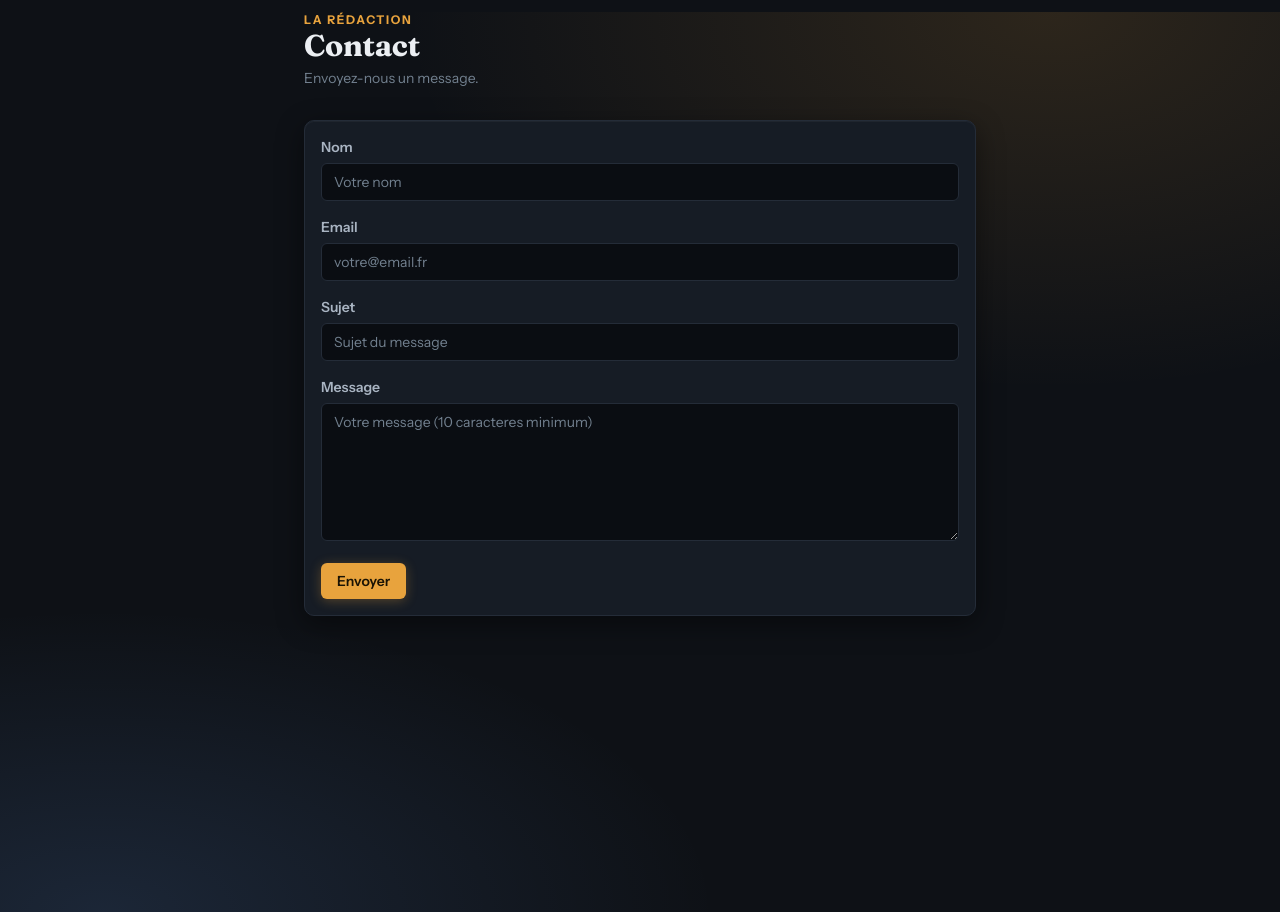
it: ContactPage › succes : affiche le message de succes et reset le formulaire
The image size is (1280, 912).
Type "Jean" into the field labelled "Nom" at {"x": 640, "y": 182}, box left=321, top=163, right=959, bottom=201
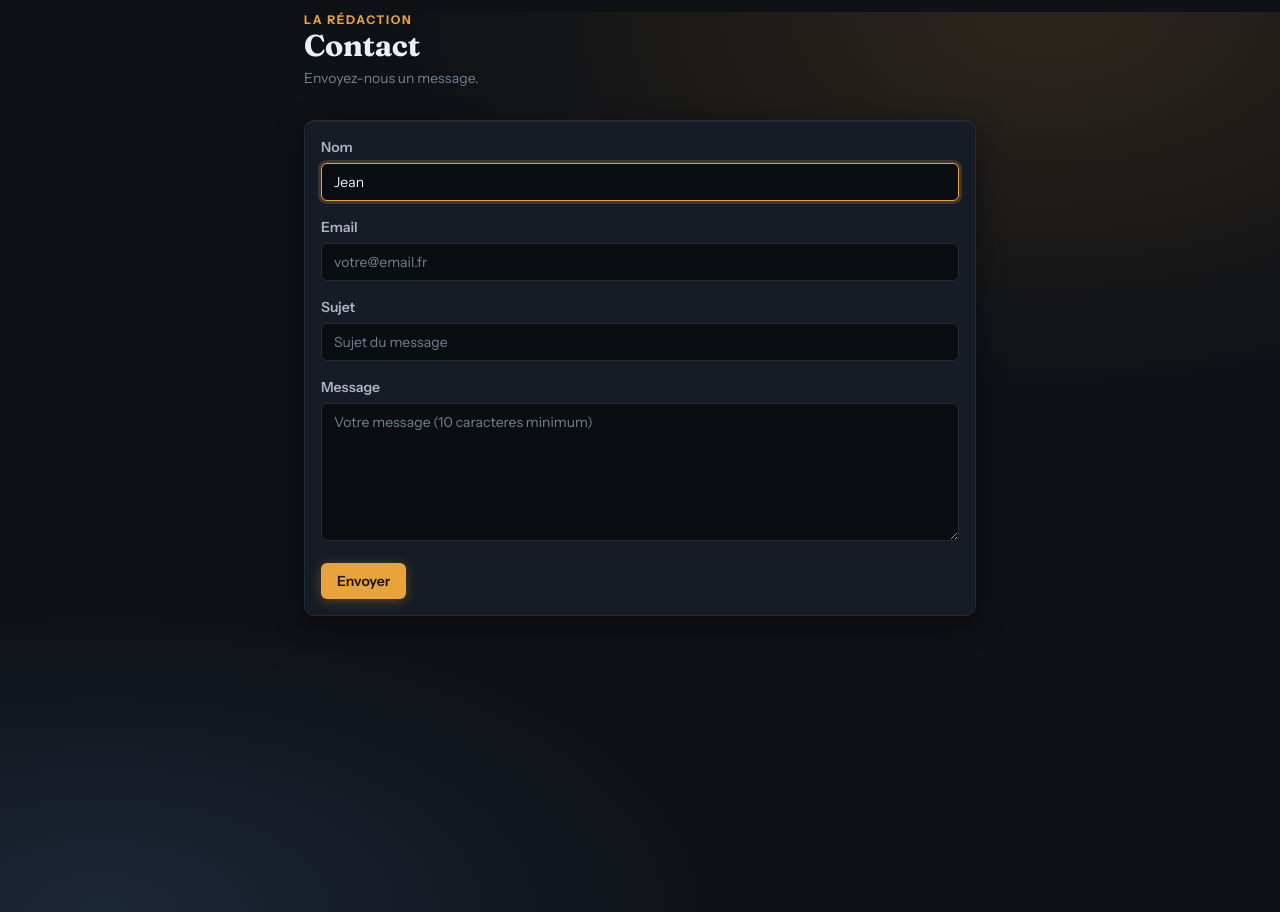
Type "jean@example.fr" into the field labelled "Email" at {"x": 640, "y": 262}, box left=321, top=243, right=959, bottom=281
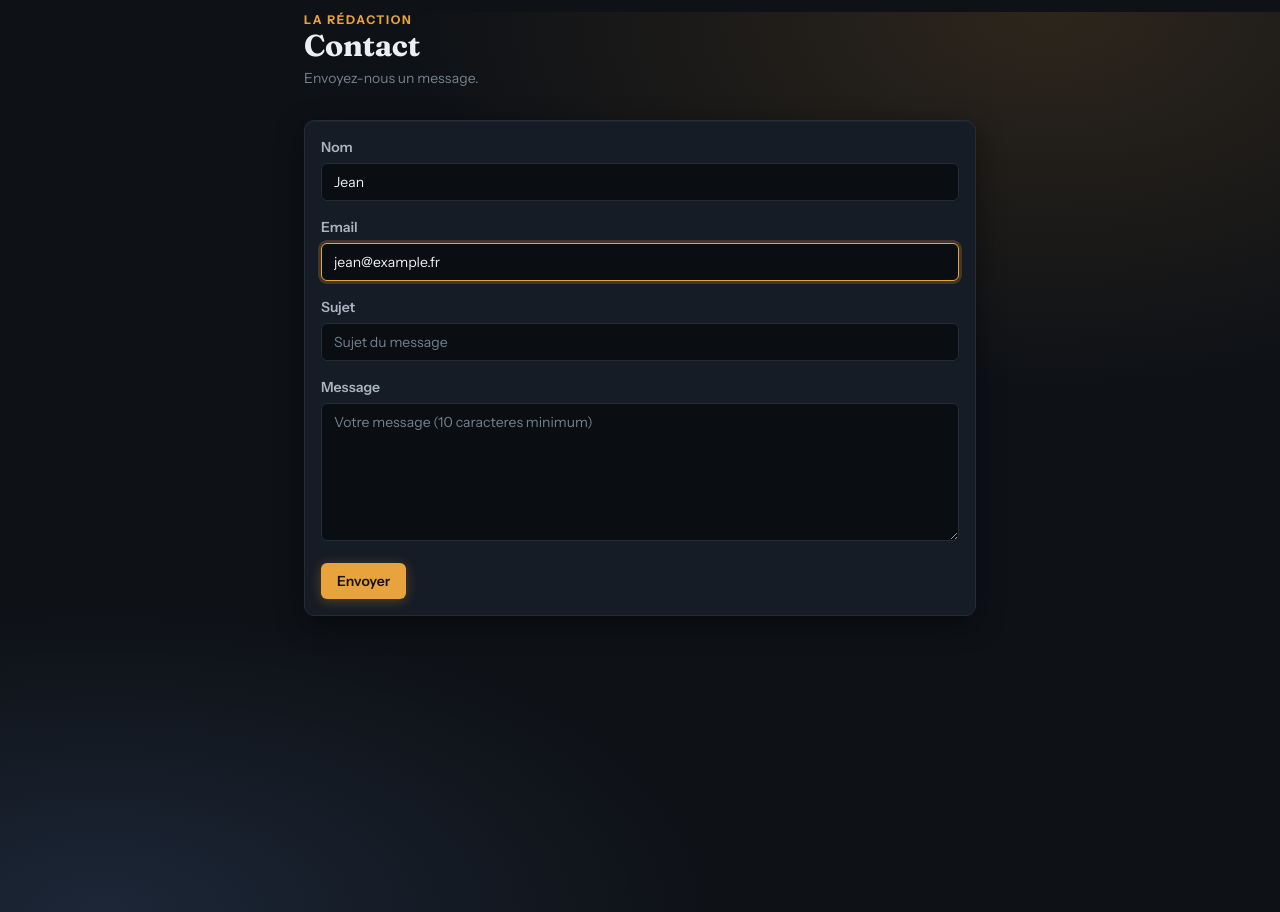
Type "Test" into the field labelled "Sujet" at {"x": 640, "y": 342}, box left=321, top=323, right=959, bottom=361
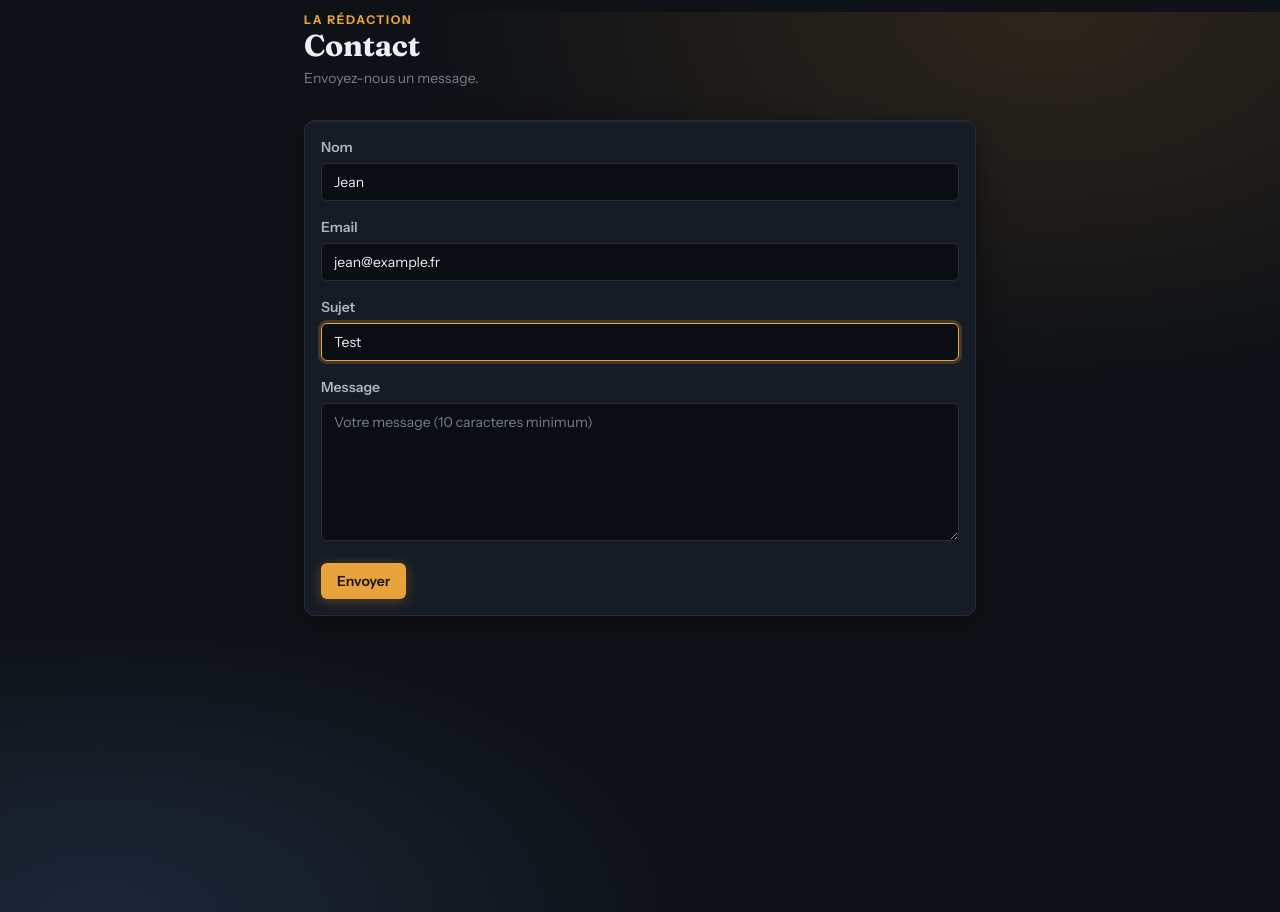
Type "Message de test suffisamment long." into the text box labelled "Message" at {"x": 640, "y": 472}, box left=321, top=403, right=959, bottom=541
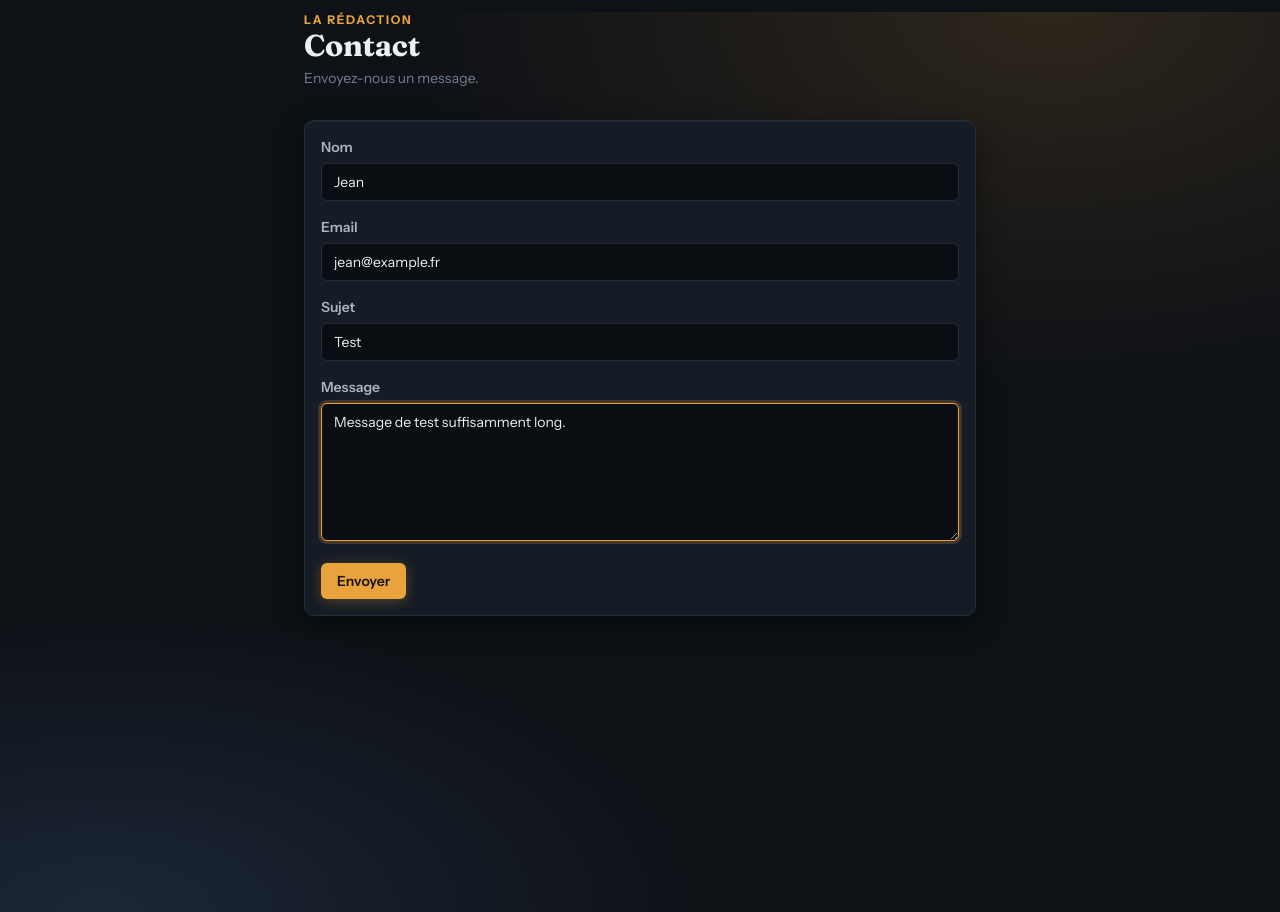
Click the button "Envoyer" at {"x": 364, "y": 581}, box left=321, top=563, right=406, bottom=599
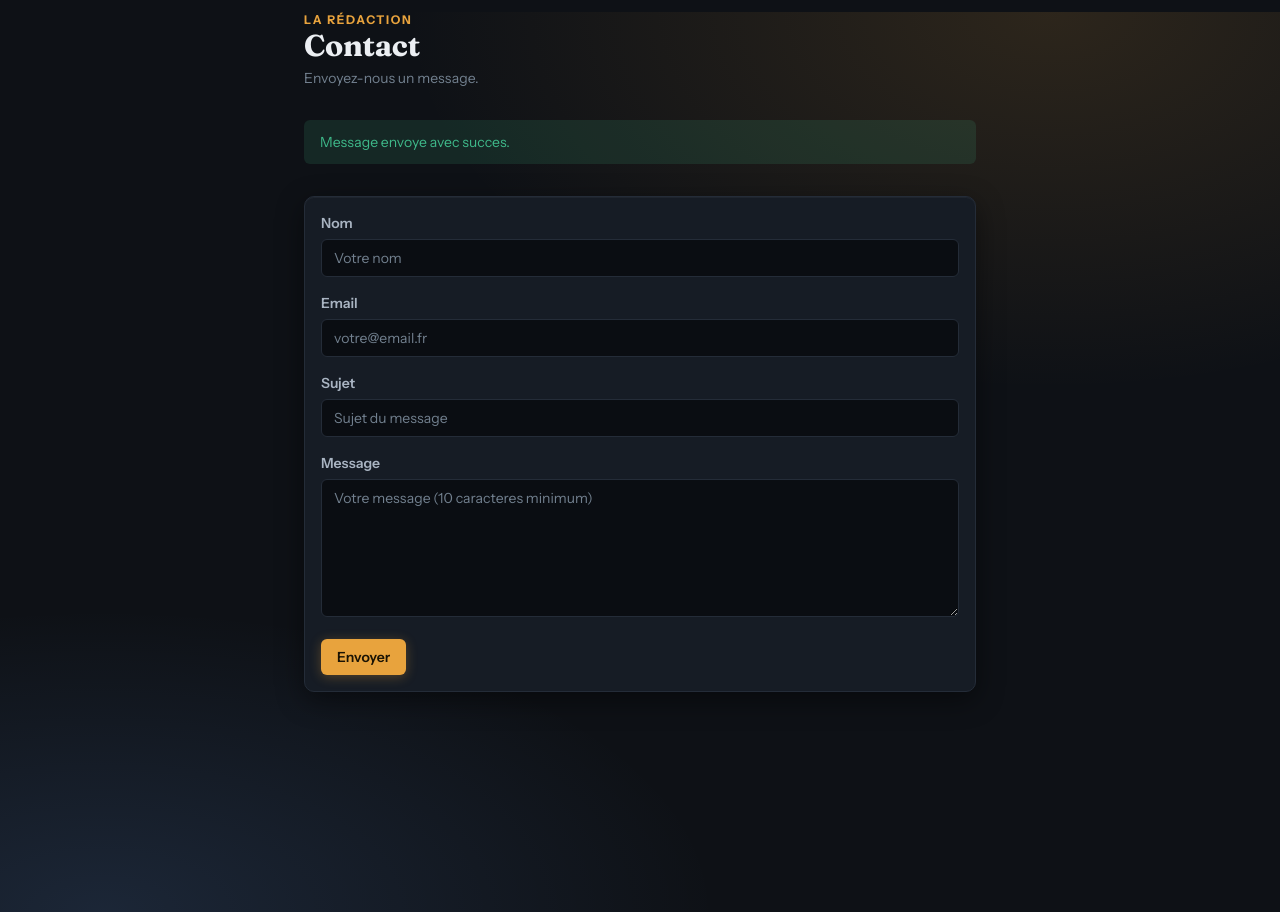
expect the text "Message envoye avec succes." is shown: met, box left=304, top=120, right=976, bottom=164
expect the field labelled "Nom" is empty: met, box left=321, top=239, right=959, bottom=277
